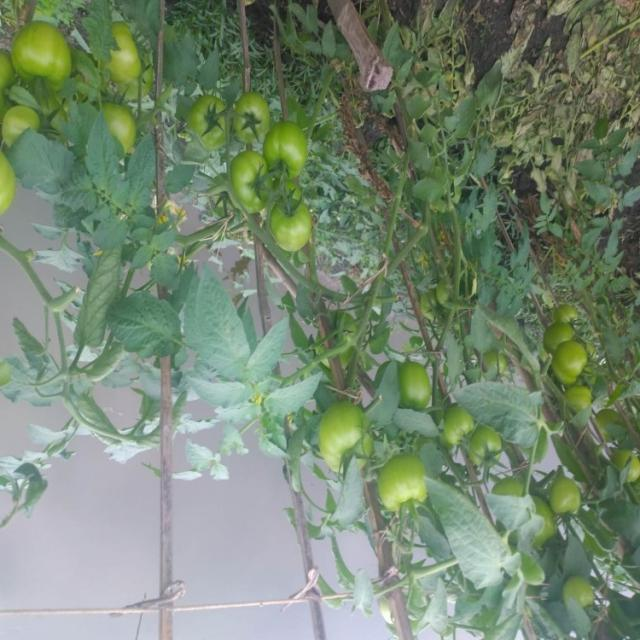tomato: (13, 8, 71, 101), (372, 444, 439, 512), (223, 147, 279, 220), (319, 394, 364, 480), (269, 179, 317, 255), (105, 15, 150, 88), (187, 80, 230, 156), (95, 97, 142, 157), (262, 119, 313, 173), (1, 93, 44, 150), (235, 87, 275, 146), (399, 351, 428, 422), (547, 340, 589, 388), (547, 473, 589, 516), (469, 423, 505, 473), (537, 316, 579, 358), (441, 399, 468, 457), (1, 149, 21, 217), (566, 572, 600, 611), (564, 377, 595, 417), (556, 301, 587, 334), (620, 440, 640, 489)
